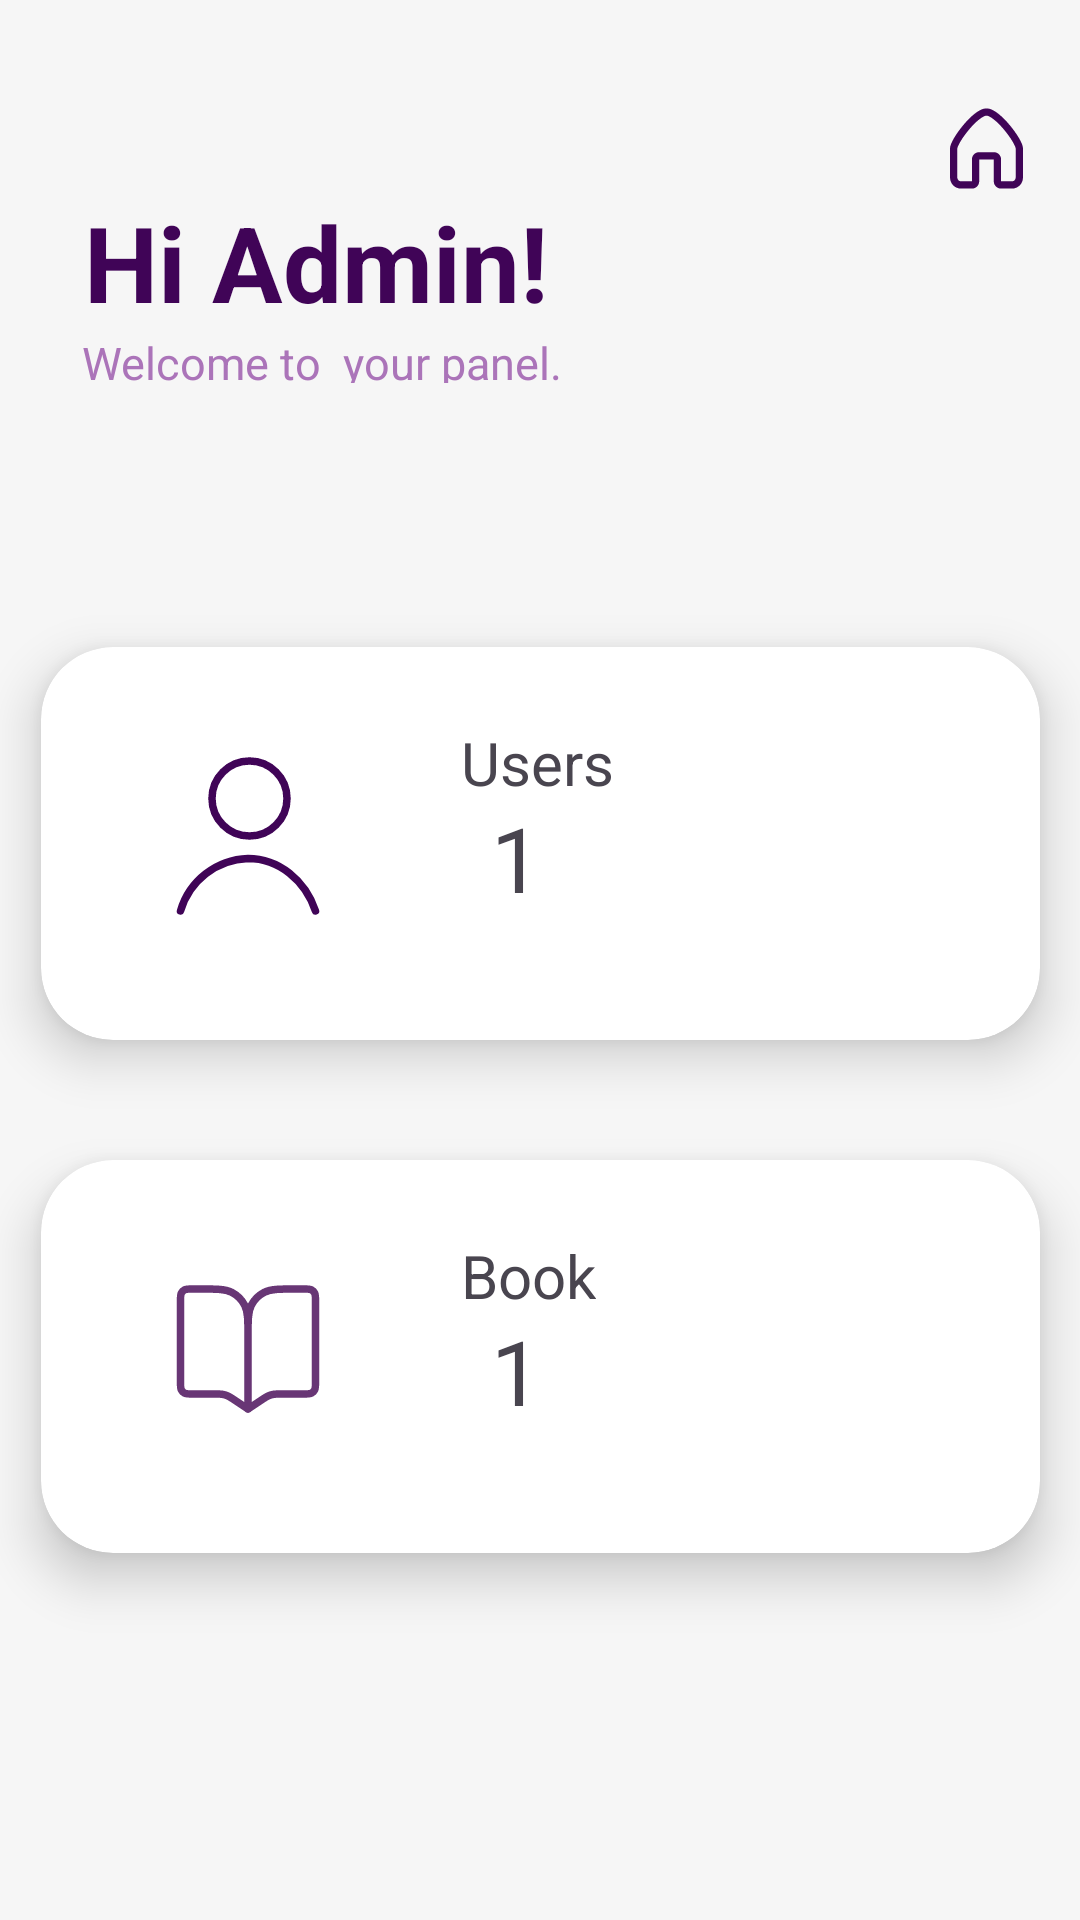

Where to tap for icons on this 1080 x 1920 app screen, as [x,y]:
home: [986,148]
